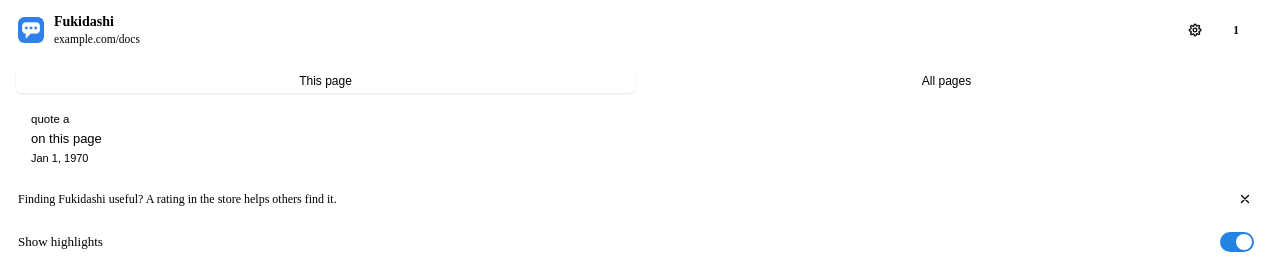
Scenario: asking for a rating › never asks again once turned down
This screenshot has width=1275, height=269.
Click the 2nd button with class "fk-icon-button": point(1245, 199) [1232, 186, 1258, 212]
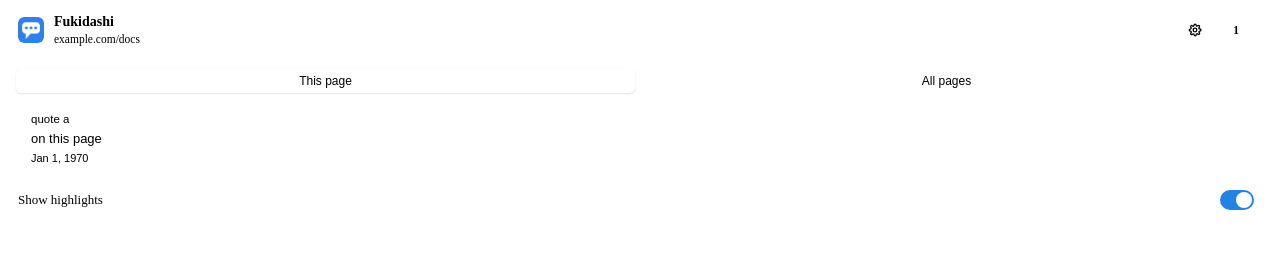
Result: the element with class "fk-review" is gone
